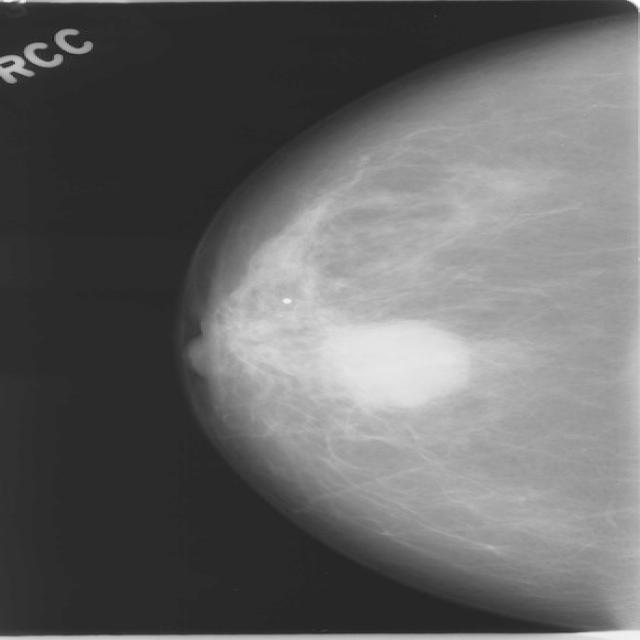tumour: (322, 321, 469, 408)
